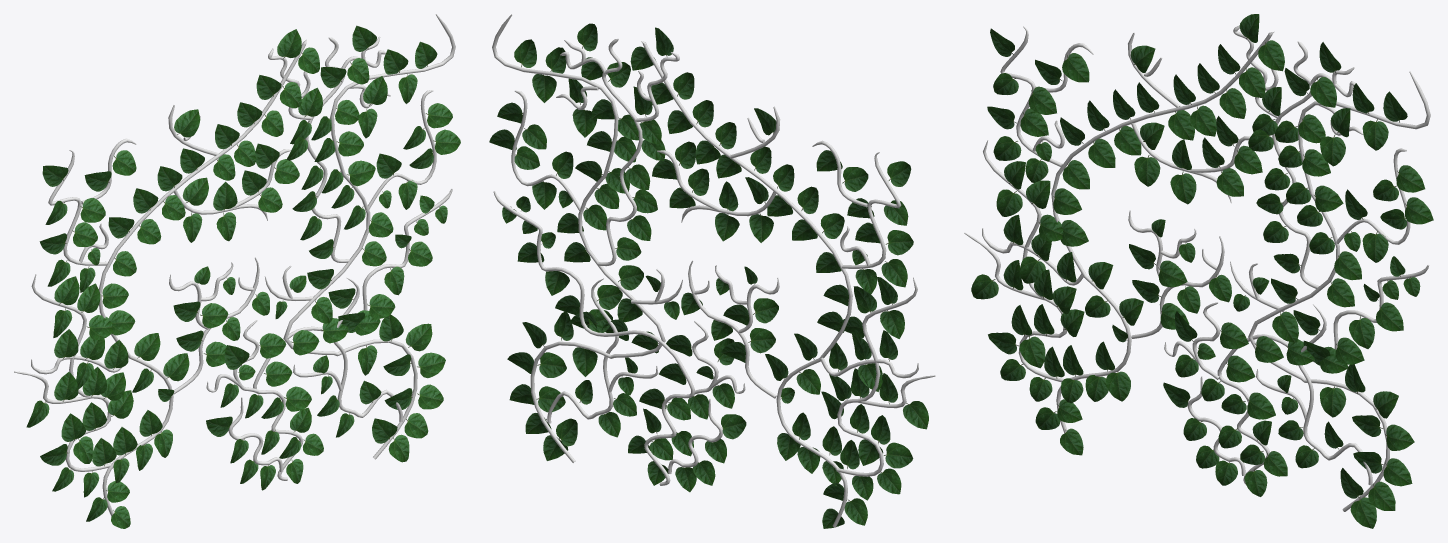
File: Vines.fbx
The picture shows the model from 3 angles, left to right: view 1: azimuth 30°, elevation 25°; view 2: azimuth 150°, elevation 25°; view 3: azimuth 330°, elevation 25°; orthographic projection. The views are drawn at different scales.
Visible parts, largest first — view 1: Line006, Line003, Line027, Line019, Line013, Line031, Line020, Line002, Line009, Plane049, Plane047, Plane074 (+21 smaller); view 2: Line006, Line003, Line027, Line019, Line013, Line031, Line020, Line009, Line002, Line030, Plane009, Plane022 (+9 smaller); view 3: Line006, Line003, Line027, Line013, Line019, Line031, Line020, Line002, Plane017, Plane143, Plane103, Plane066 (+47 smaller).
Boxes of the visible parts, x1,y1,x2,y2 form: Line006: (283,14,455,459); Line003: (98,39,306,516); Line027: (253,188,452,480); Line019: (31,274,111,471); Line013: (305,37,349,262); Line031: (334,278,402,421); Line020: (48,150,106,265); Line002: (365,90,436,211); Line009: (173,257,259,394); Plane049: (163,353,189,381); Plane047: (134,333,160,360); Plane074: (174,109,200,137); Line006: (492,14,665,462); Line003: (641,41,852,527); Line027: (493,191,694,485); Line019: (836,277,917,476); Line013: (597,38,642,266); Line031: (547,278,618,423); Line020: (842,152,901,268); Line009: (688,260,776,398); Line002: (511,90,582,212); Line030: (668,398,722,473); Plane009: (883,442,913,468); Plane022: (903,401,928,429); Line006: (1248,71,1430,511); Line003: (1051,31,1274,433); Line027: (1217,264,1429,485); Line013: (1272,41,1319,288); Line019: (983,140,1066,382); Line031: (1298,304,1372,485); Line020: (1000,26,1062,166); Line002: (1334,148,1410,244); Plane017: (1019,336,1045,368); Plane143: (1320,386,1346,417); Plane103: (1272,311,1298,342); Plane066: (1258,40,1284,71).
Bounding box in the file's own units: 138 × 135 × 6.08.
1 material, 1 textured.
